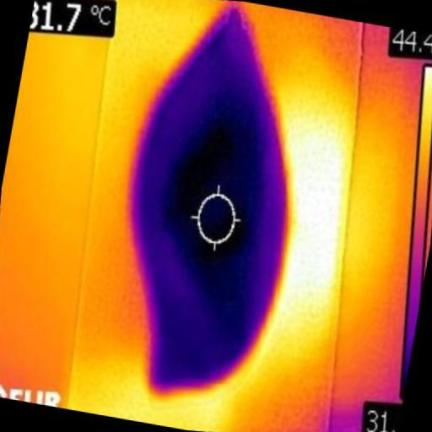mango: (132, 10, 286, 389)
